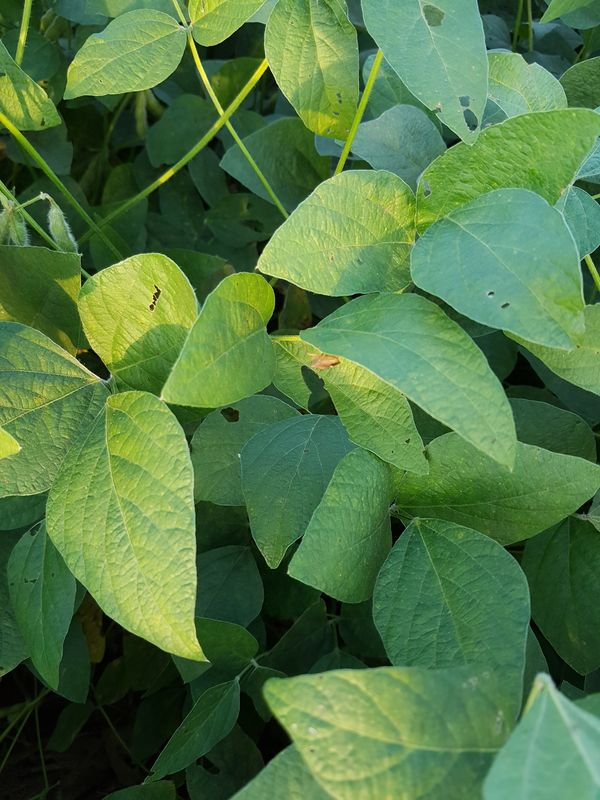Euschistus_heros_adulto: (299, 343, 348, 382)
